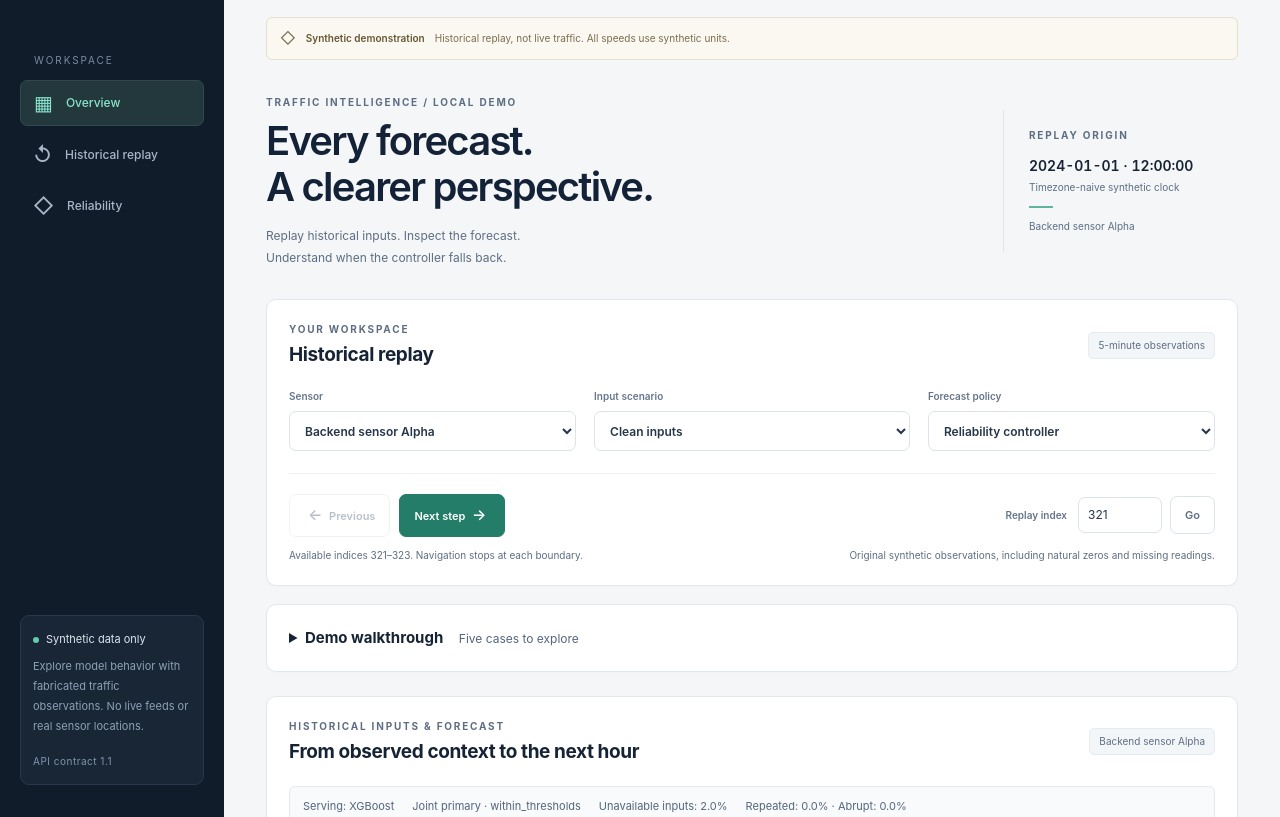
Test: synthetic dashboard foundation › clears old forecasts when a changed sensor request fails
This screenshot has width=1280, height=817.
Select "Backend sensor Beta" in the dropdown labelled "Sensor" at (433, 431), box x1=289 y1=411 x2=576 y2=451
(page scrolled)
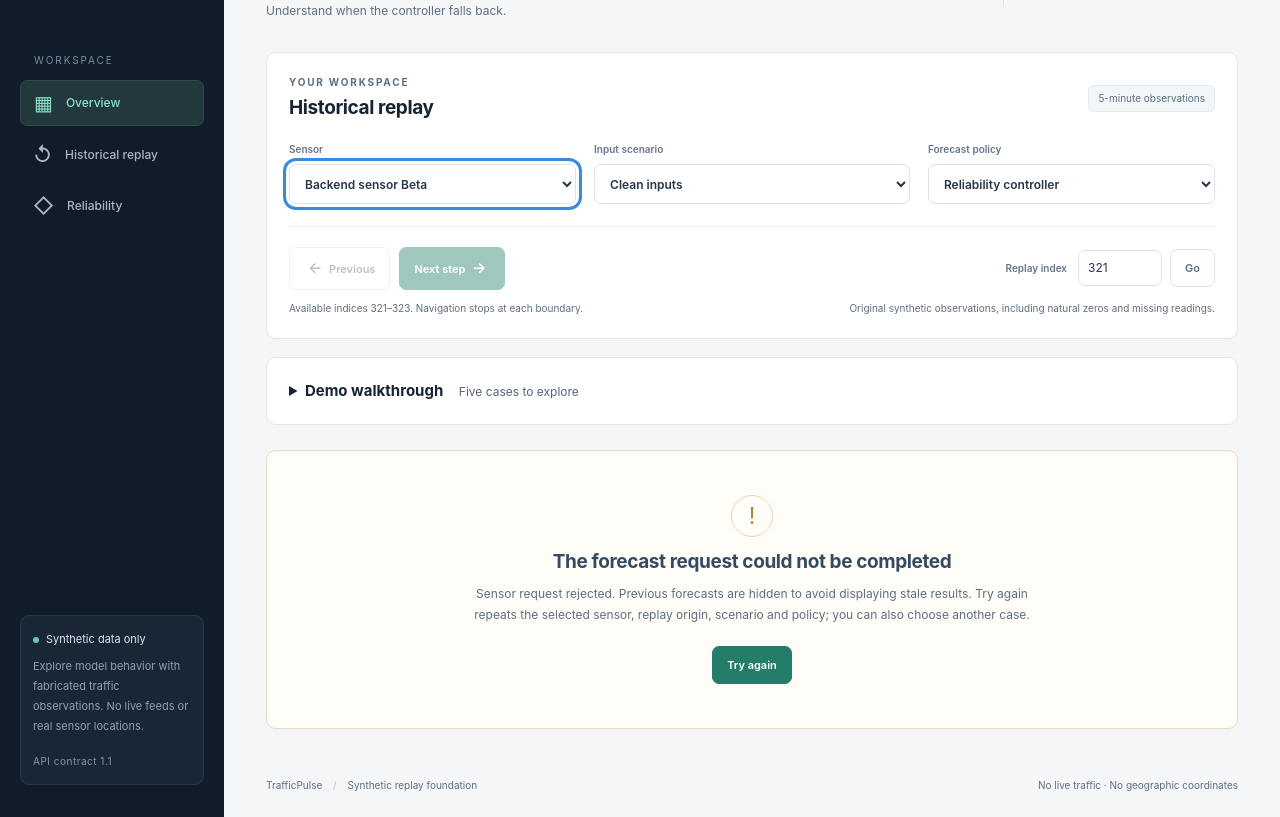
expect the heading "The forecast request could not be completed" is shown: met, box x1=553 y1=550 x2=951 y2=573
